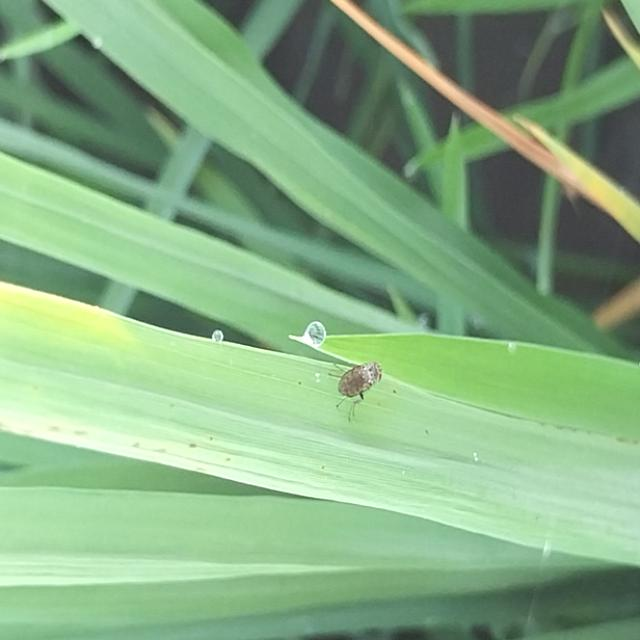Wereng: (326, 342, 399, 432)
